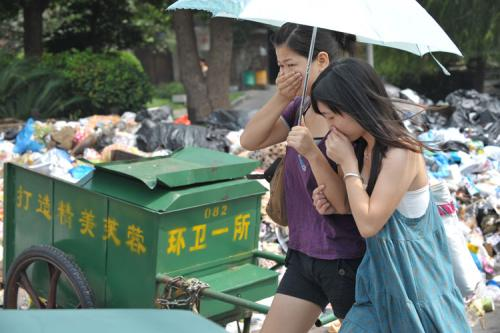no_mask: (308, 53, 392, 143), (270, 17, 337, 99)
